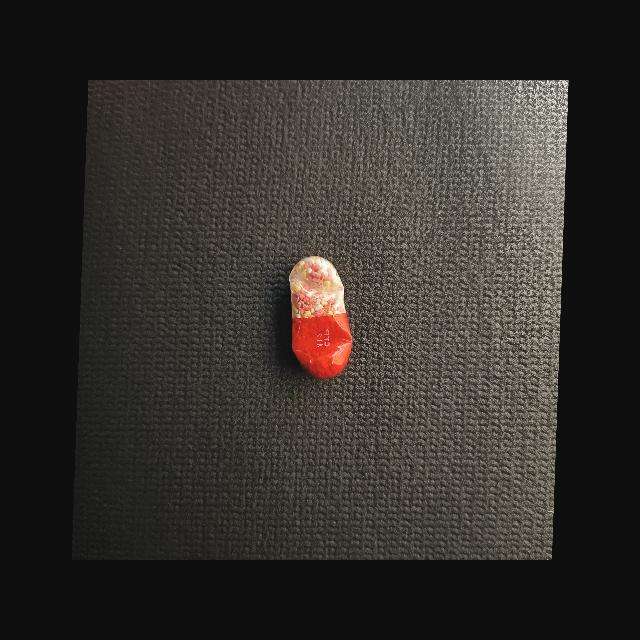Defective Capsule: (289, 256, 353, 379)
